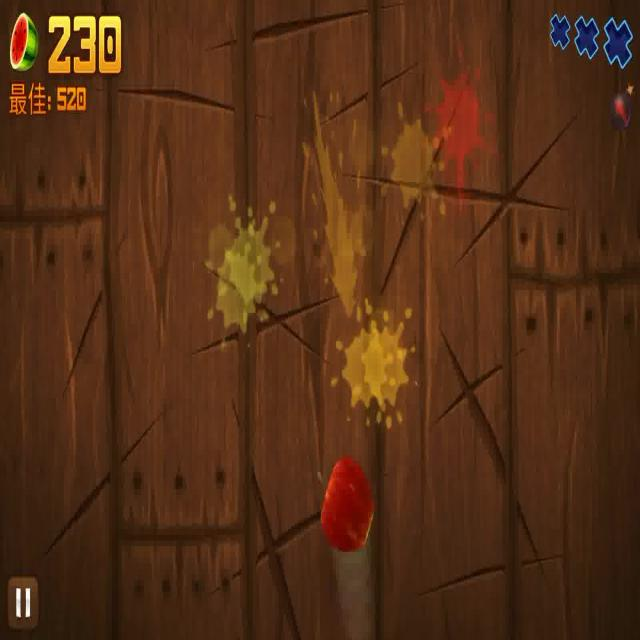fruit: (318, 439, 378, 555)
